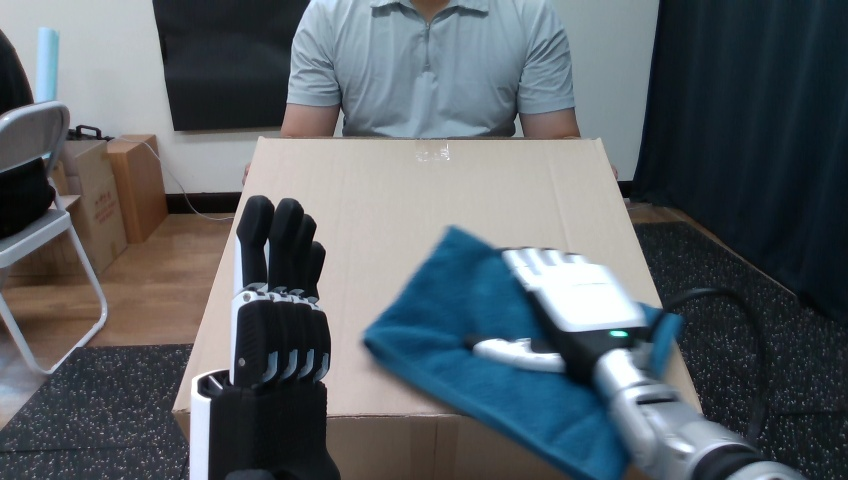left robot hand: (466, 248, 803, 479), (190, 195, 339, 479)
